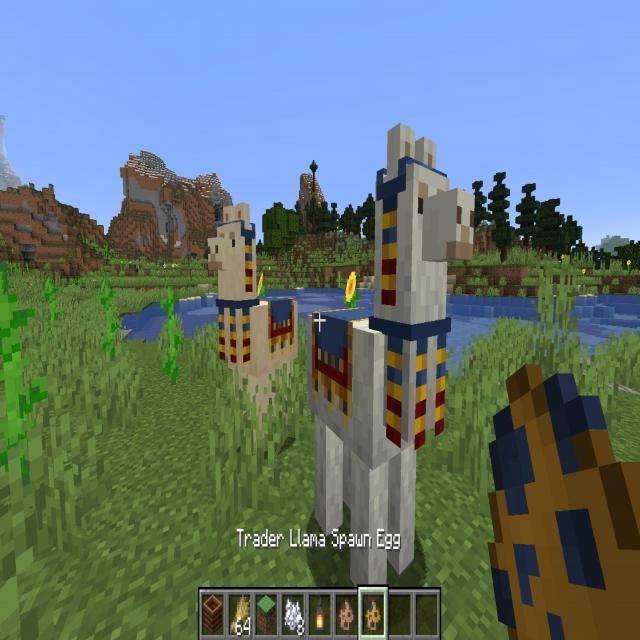Trader Lama: (306, 120, 476, 594), (206, 199, 300, 420)
